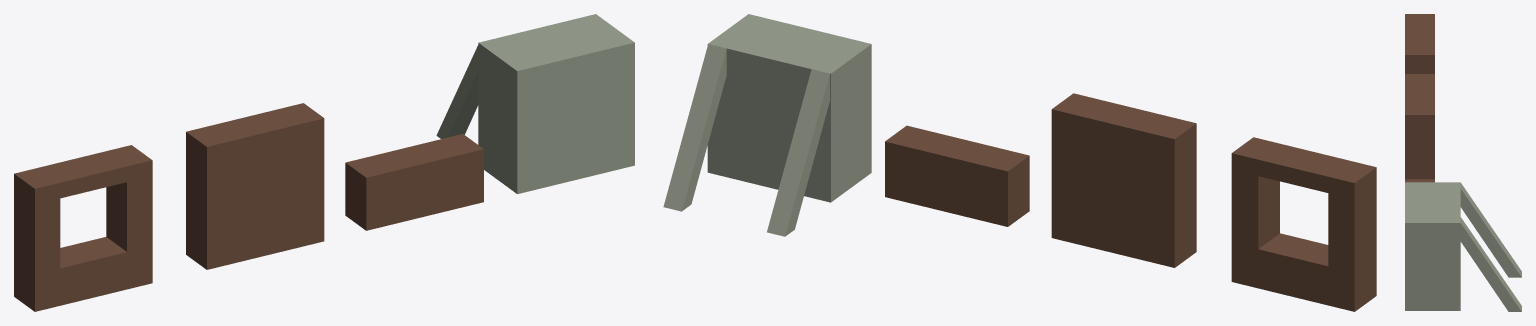
The model's file is walls.fbx.
3 views of the same model, side by side, from view 1: azimuth 30°, elevation 25°; view 2: azimuth 150°, elevation 25°; view 3: azimuth 270°, elevation 25° (orthographic). The views are drawn at different scales.
Parts seen in each view (by area): view 1: Muro Grueso, Muro Corto, Muro Agujereado, Muro basico; view 2: Muro Grueso, Muro Corto, Muro Agujereado, Muro basico; view 3: Muro Grueso, Muro Corto, Muro Agujereado, Muro basico.
Boxes of the visible parts, x1,y1,x2,y2 form: Muro Grueso: (436,14,634,194); Muro Corto: (186,103,324,269); Muro Agujereado: (14,145,152,311); Muro basico: (345,134,483,230); Muro Grueso: (663,14,871,236); Muro Corto: (1051,93,1196,267); Muro Agujereado: (1231,137,1376,311); Muro basico: (885,125,1029,226); Muro Grueso: (1405,182,1521,311); Muro Corto: (1405,74,1434,179); Muro Agujereado: (1405,14,1434,73); Muro basico: (1405,179,1434,182).
Bounding box in the file's own units: 1276 × 253 × 301.
